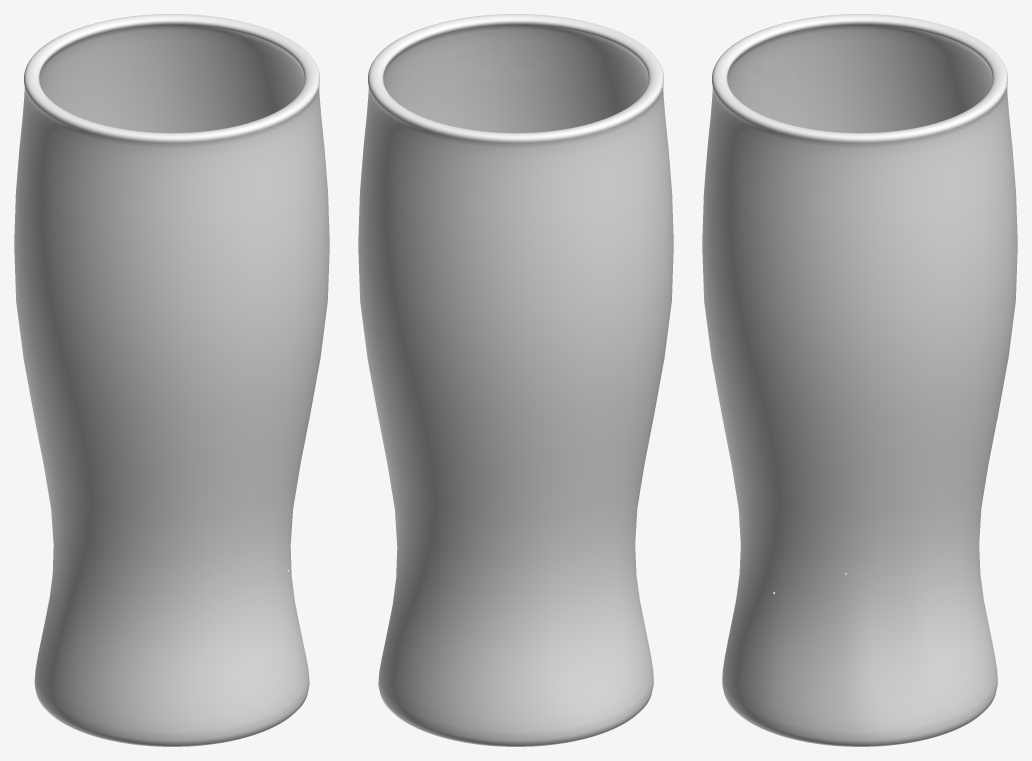
Rendered from BeerPuntoMano.glb.
3 views of the same model, side by side, from view 1: azimuth 30°, elevation 25°; view 2: azimuth 150°, elevation 25°; view 3: azimuth 270°, elevation 25° (orthographic).
Parts seen in each view (by area): view 1: Stakan, Pena_stakana; view 2: Stakan, Pena_stakana; view 3: Stakan, Pena_stakana.
Boxes of the visible parts, x1=… form: Stakan: x1=14, y1=14, x2=329, y2=746; Pena_stakana: x1=78, y1=56, x2=294, y2=118; Stakan: x1=358, y1=14, x2=673, y2=746; Pena_stakana: x1=391, y1=44, x2=645, y2=109; Stakan: x1=702, y1=14, x2=1017, y2=746; Pena_stakana: x1=728, y1=57, x2=947, y2=131.
Size of the model in its own units: 0.2734 by 0.589 by 0.2734.
5 materials, 1 textured.
